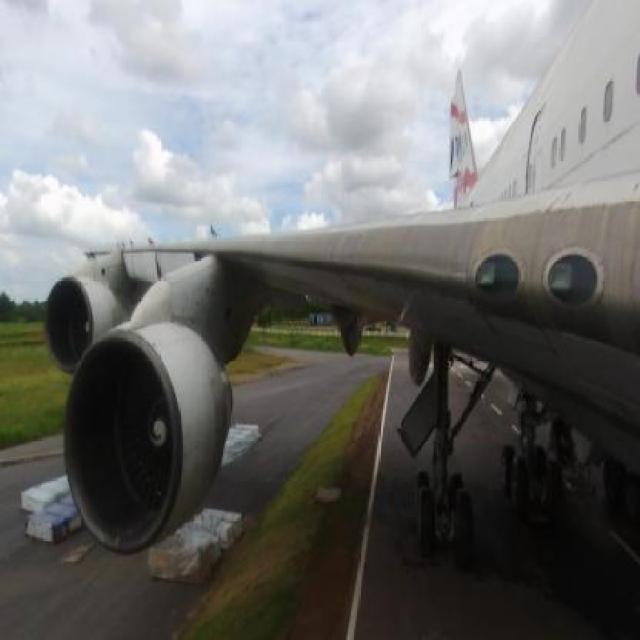Scartch: (373, 277, 469, 311)
